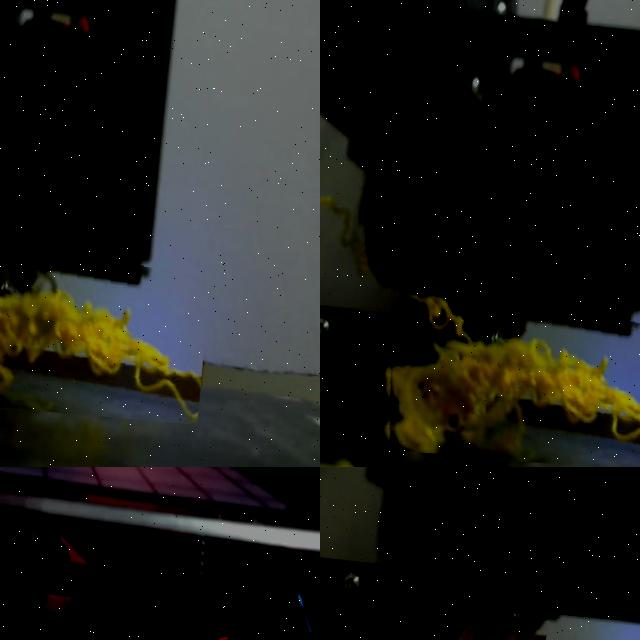spaghetti: (389, 288, 640, 454), (0, 289, 201, 413), (320, 197, 369, 266), (456, 615, 535, 640)
